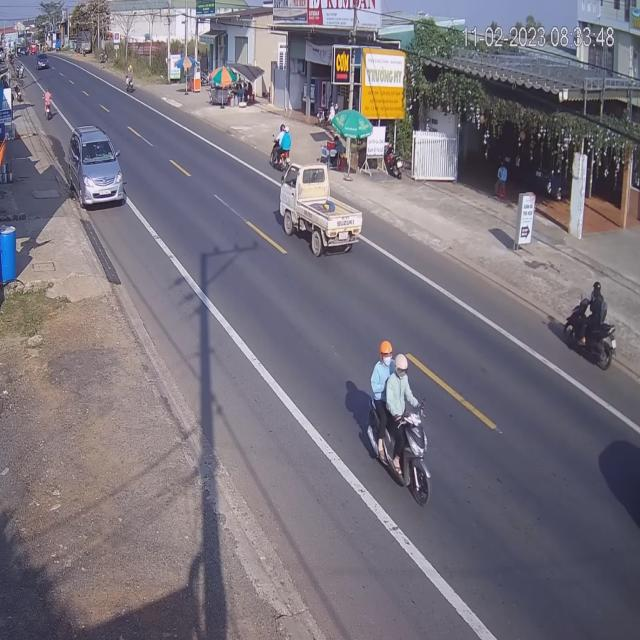car: (67, 127, 126, 210), (36, 55, 49, 72)
motorbike: (368, 342, 429, 504), (563, 281, 615, 371), (272, 124, 292, 175), (43, 88, 53, 122), (125, 66, 136, 96)
truck: (280, 163, 362, 254)
